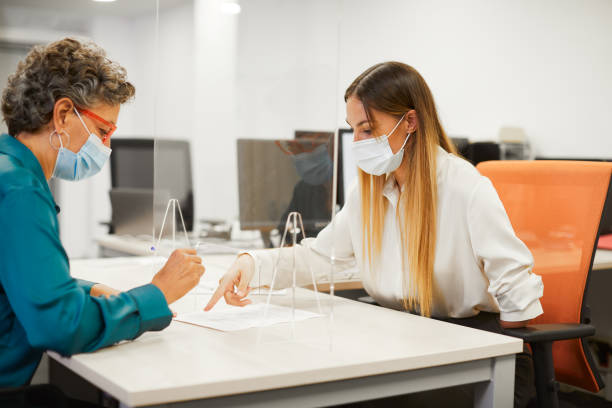with mask: (342, 68, 435, 183), (48, 65, 124, 189)
